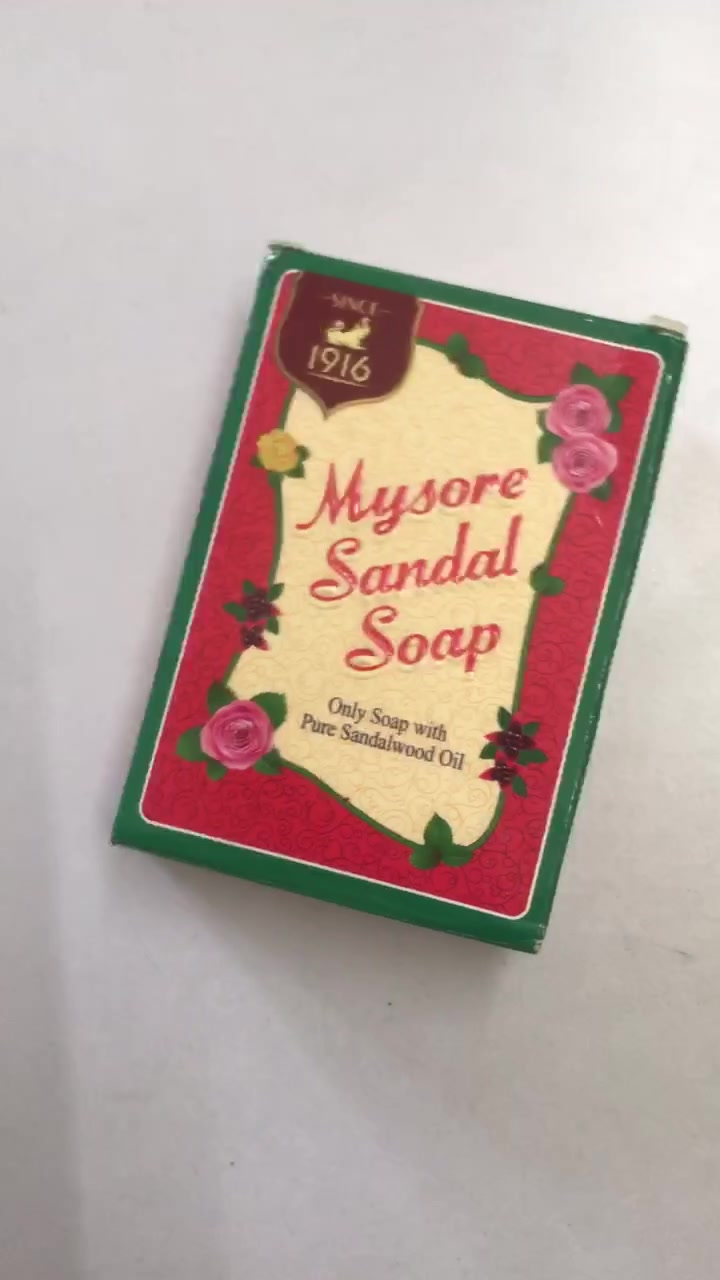mysore sandal soap: (120, 246, 691, 952)
